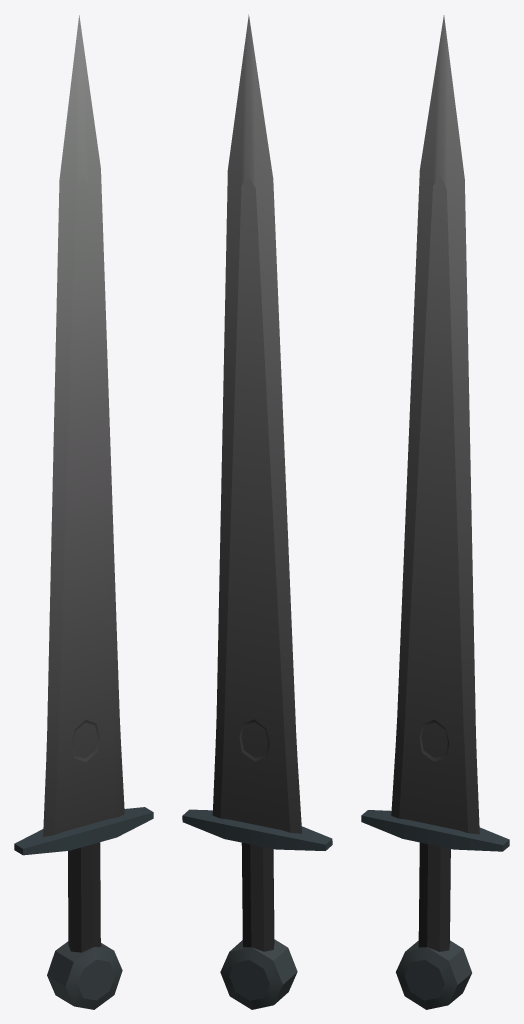
Rendered from Sword_2.fbx.
3 views of the same model, side by side, from view 1: azimuth 30°, elevation 25°; view 2: azimuth 150°, elevation 25°; view 3: azimuth 330°, elevation 25° (orthographic).
Parts seen in each view (by area): view 1: Sword_2; view 2: Sword_2; view 3: Sword_2.
Boxes of the visible parts, bbox=[...] form: Sword_2: bbox=[14, 15, 153, 1009]; Sword_2: bbox=[182, 14, 332, 1009]; Sword_2: bbox=[361, 15, 509, 1009].
Size of the model in its own units: 14.87 by 102 by 4.26.
